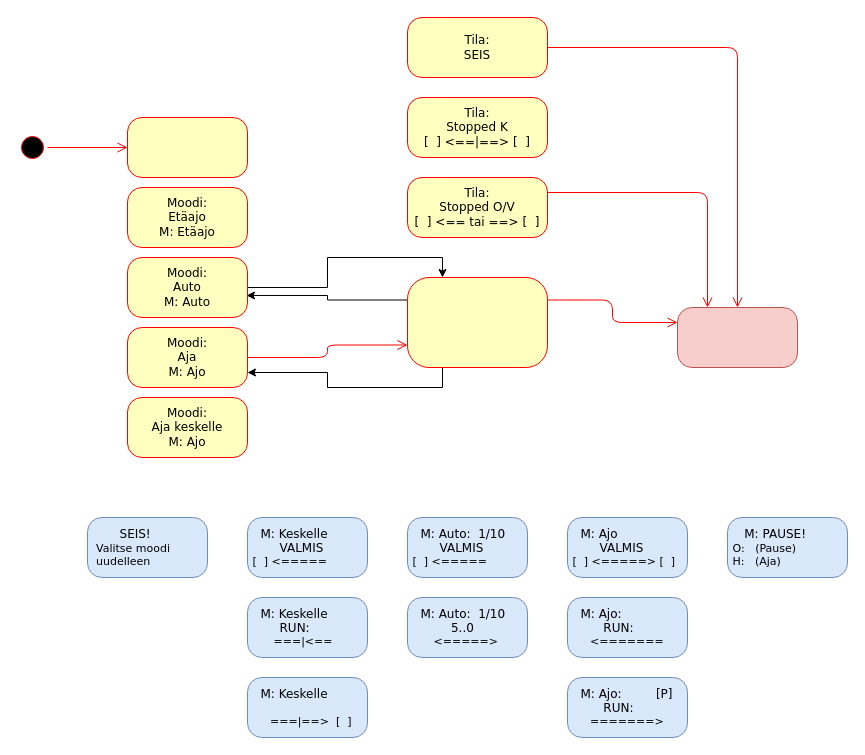
This 865x755 diagram has some shape labels left out. Here are the shapes that lost their labels. From the top down, the box of each, then its label:
(126, 116, 248, 178): Pause
(406, 276, 548, 368): Tila: RUN <== tai ==>
(676, 306, 798, 368): Moodi: Pause M: PAUSE!
